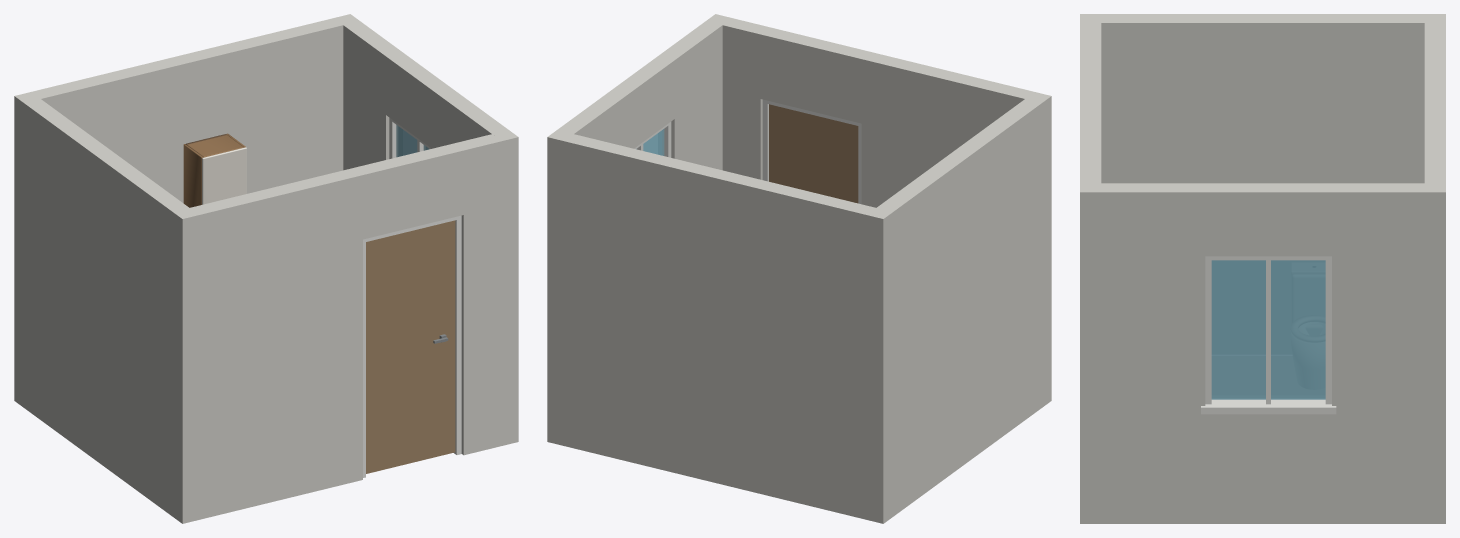
The model's file is oursv11b.glb.
3 renders of one model, left to right at view 1: azimuth 30°, elevation 25°; view 2: azimuth 150°, elevation 25°; view 3: azimuth 270°, elevation 25°, orthographic. The views are drawn at different scales.
Parts seen in each view (by area): view 1: wall|scenesmith_101__R00|0, wall|scenesmith_101__R00|2, wall|scenesmith_101__R00|1, wall|scenesmith_101__R00|0 Door 0 | wood leaf, wall|scenesmith_101__R00|3, wall|scenesmith_101__R00|0 Door 0 | jamb, Appliance enclosure, Carcass horizontal; view 2: wall|scenesmith_101__R00|1, wall|scenesmith_101__R00|2, wall|scenesmith_101__R00|0, wall|scenesmith_101__R00|3, wall|scenesmith_101__R00|0 Door 0 | wood leaf, wall|scenesmith_101__R00|0 Door 0 | jamb; view 3: wall|scenesmith_101__R00|3, wall|scenesmith_101__R00|2, wall|scenesmith_101__R00|3 Window 0 | glazing, wall|scenesmith_101__R00|3 Window 0 | jamb, wall|scenesmith_101__R00|1, wall|scenesmith_101__R00|0.
Part boxes in pixels (x1,y1,x2,y2): wall|scenesmith_101__R00|0: (182, 134, 518, 523); wall|scenesmith_101__R00|2: (15, 92, 198, 523); wall|scenesmith_101__R00|1: (14, 18, 343, 407); wall|scenesmith_101__R00|0 Door 0 | wood leaf: (366, 220, 455, 473); wall|scenesmith_101__R00|3: (334, 14, 517, 170); wall|scenesmith_101__R00|0 Door 0 | jamb: (363, 215, 461, 477); Appliance enclosure: (202, 147, 246, 204); Carcass horizontal: (183, 133, 245, 207); wall|scenesmith_101__R00|1: (547, 134, 893, 523); wall|scenesmith_101__R00|2: (867, 92, 1051, 516); wall|scenesmith_101__R00|0: (722, 18, 1034, 207); wall|scenesmith_101__R00|3: (548, 14, 731, 170); wall|scenesmith_101__R00|0 Door 0 | wood leaf: (769, 104, 858, 203); wall|scenesmith_101__R00|0 Door 0 | jamb: (762, 99, 861, 204); wall|scenesmith_101__R00|3: (1080, 183, 1445, 523); wall|scenesmith_101__R00|2: (1080, 14, 1445, 183); wall|scenesmith_101__R00|3 Window 0 | glazing: (1211, 260, 1325, 399); wall|scenesmith_101__R00|3 Window 0 | jamb: (1201, 256, 1336, 414); wall|scenesmith_101__R00|1: (1424, 14, 1445, 183); wall|scenesmith_101__R00|0: (1080, 23, 1101, 183).
Size of the model in its own units: 3.03 by 2.61 by 2.6.
